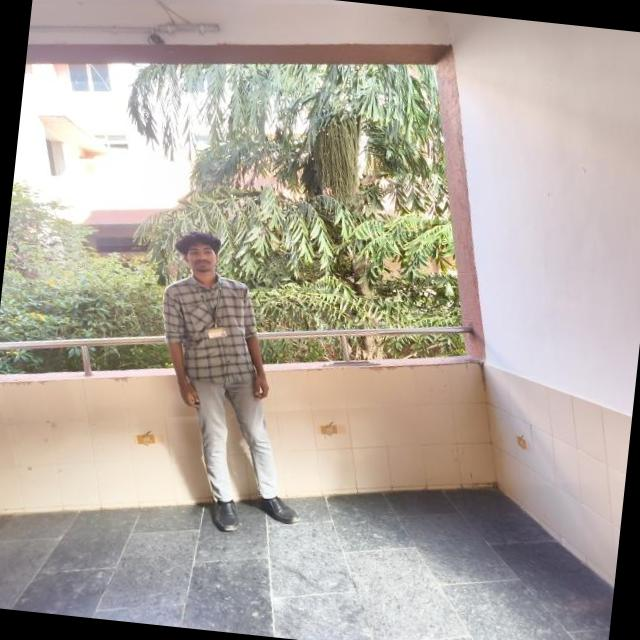id_card: (198, 278, 236, 340)
